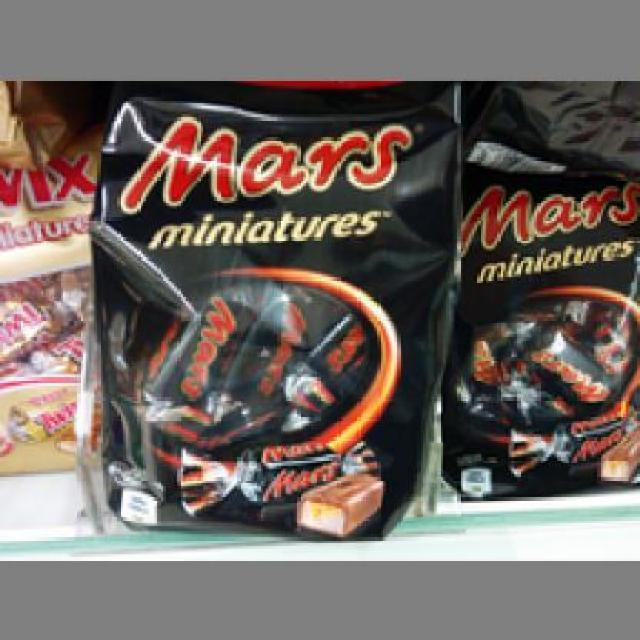Chocolate: (89, 88, 440, 544), (448, 128, 638, 494), (0, 137, 106, 477)
